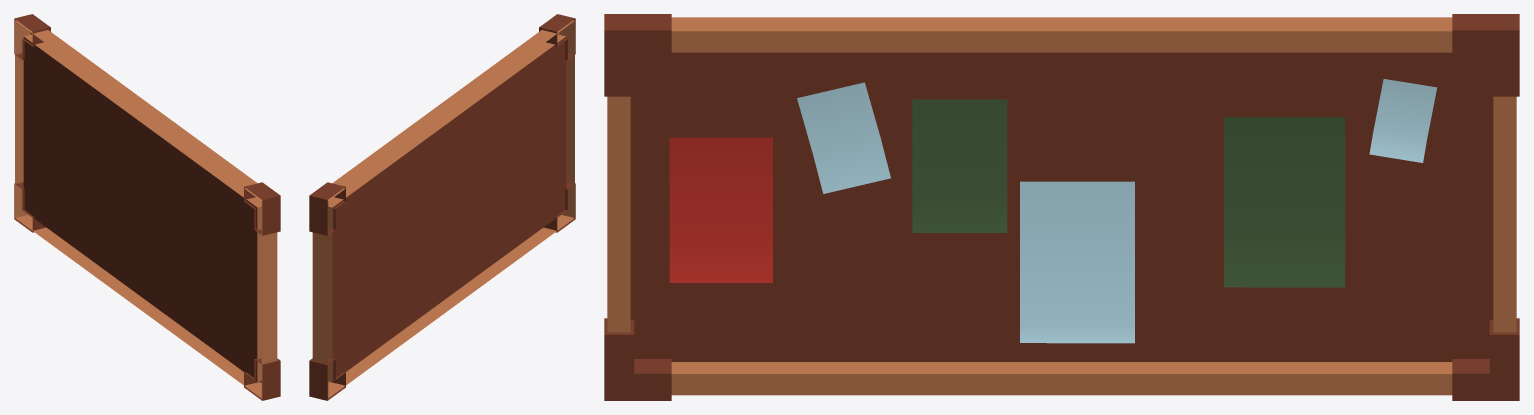
File: Board Low 2.fbx
3 views of the same model, side by side, from view 1: azimuth 30°, elevation 25°; view 2: azimuth 150°, elevation 25°; view 3: azimuth 270°, elevation 25° (orthographic). The views are drawn at different scales.
Parts seen in each view (by area): view 1: Cube; view 2: Cube; view 3: Cube, Paper.
Part boxes in pixels (x1,y1,x2,y2): Cube: (14,14,280,400); Cube: (309,14,575,400); Cube: (604,14,1519,400); Paper: (669,79,1437,343).
Size of the model in its own units: 17.05 by 401 by 179.
